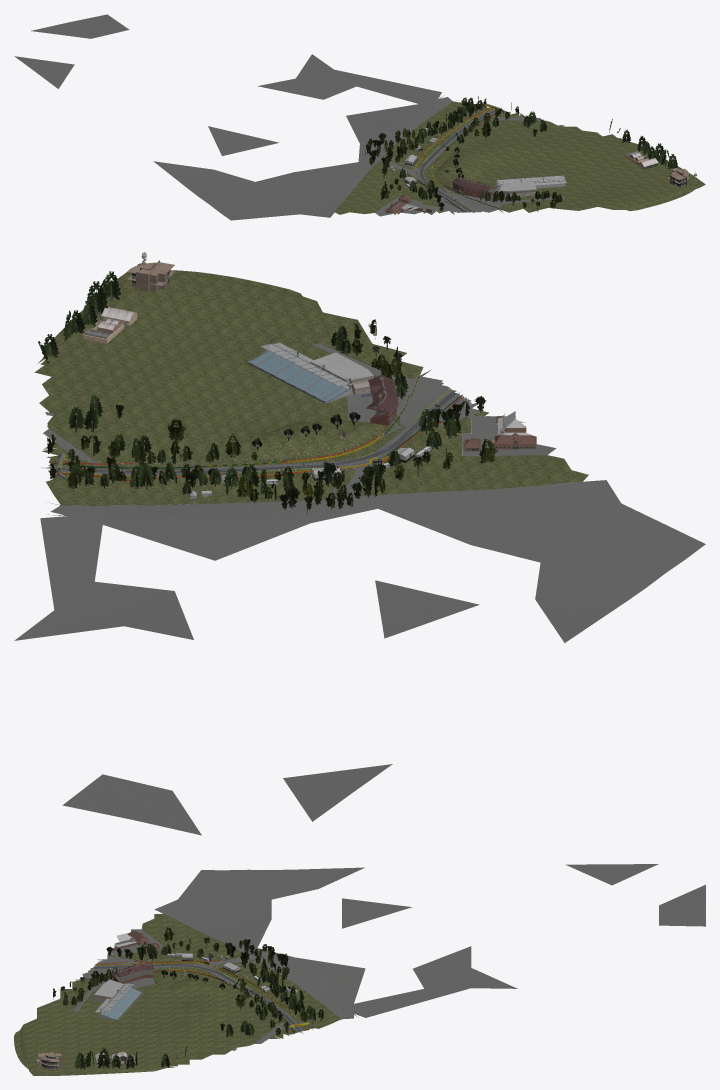
3 renders of one model, top to bottom at view 1: azimuth 30°, elevation 25°; view 2: azimuth 150°, elevation 25°; view 3: azimuth 270°, elevation 25°, orthographic. The views are drawn at different scales.
Visible parts, largest first — view 1: tile_t01; view 2: tile_t01; view 3: tile_t01.
Boxes of the visible parts, <box> form: tile_t01: <box>14,14,705,220</box>; tile_t01: <box>14,252,705,835</box>; tile_t01: <box>14,864,705,1075</box>.
Bounding box in the file's own units: 657 × 35.02 × 943.
Materials: 41 (41 with a texture image).
